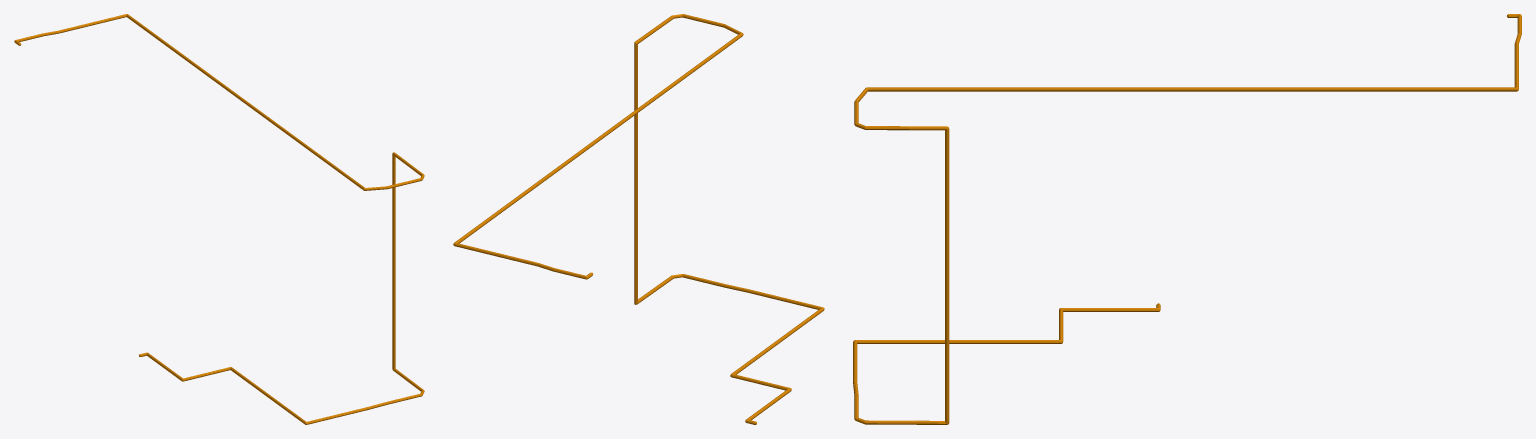
The picture shows the model from 3 angles, left to right: view 1: azimuth 30°, elevation 25°; view 2: azimuth 150°, elevation 25°; view 3: azimuth 270°, elevation 25°; orthographic projection. The views are drawn at different scales.
Bounding box in the file's own units: 1304 × 1520 × 3087.
